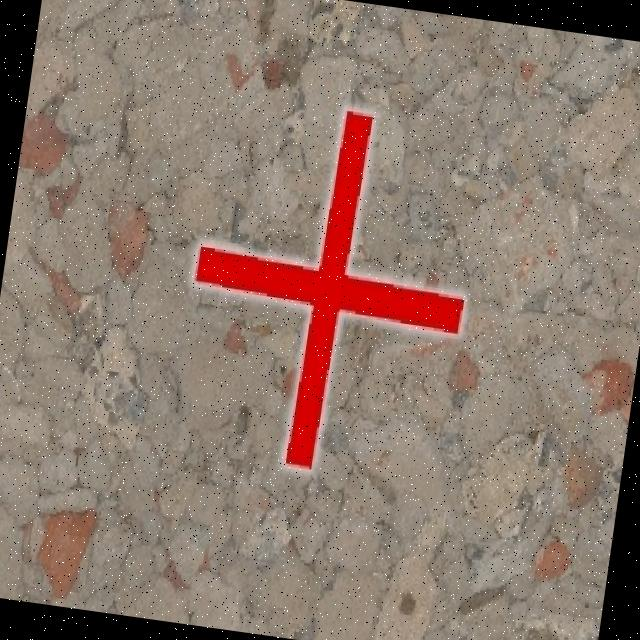x_marker: (170, 92, 487, 486)
